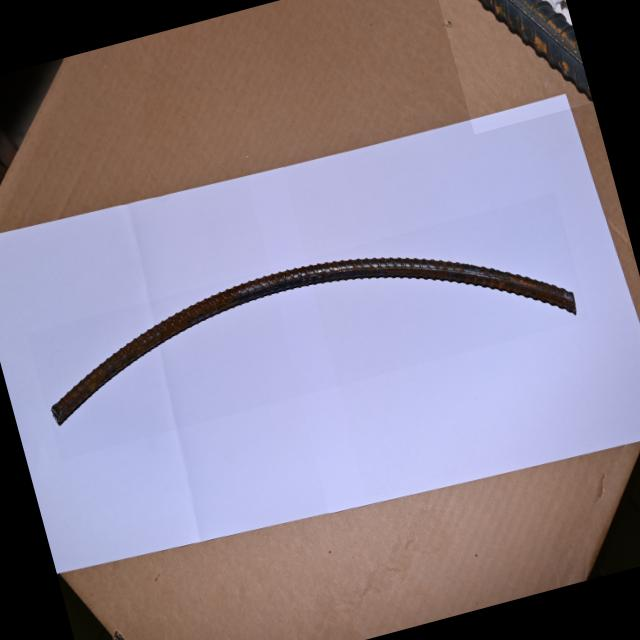ribbed bar: (26, 192, 588, 460), (428, 0, 593, 134)
